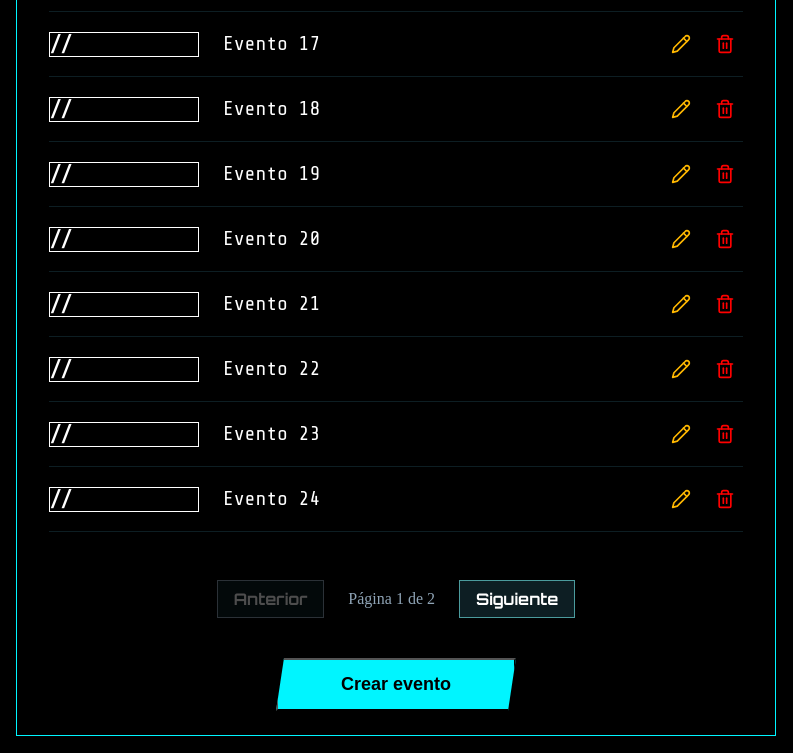
Test: UserPanel — Cobertura completa › navega a la página siguiente con el botón 'Siguiente'
This screenshot has width=793, height=753.
(page scrolled)
Click the button "Siguiente" at (517, 599), box left=459, top=580, right=575, bottom=618
(page scrolled)
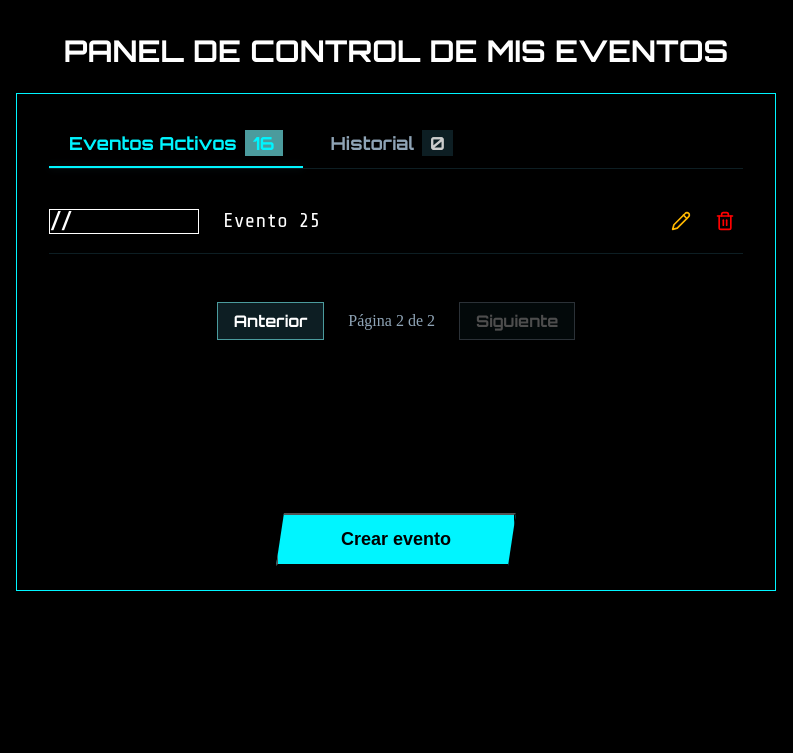
Result: the text "Página 2 de 2" is shown at left=348, top=312, right=435, bottom=330
